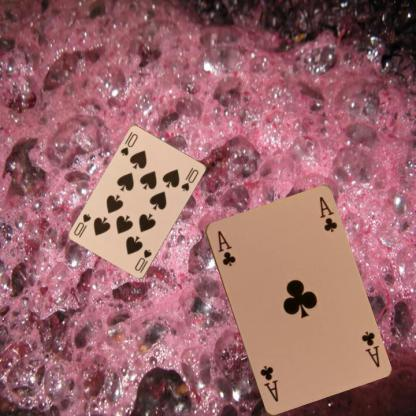10s: (118, 131, 139, 157), (132, 247, 153, 272)
Ac: (358, 328, 381, 369), (214, 228, 237, 268)
